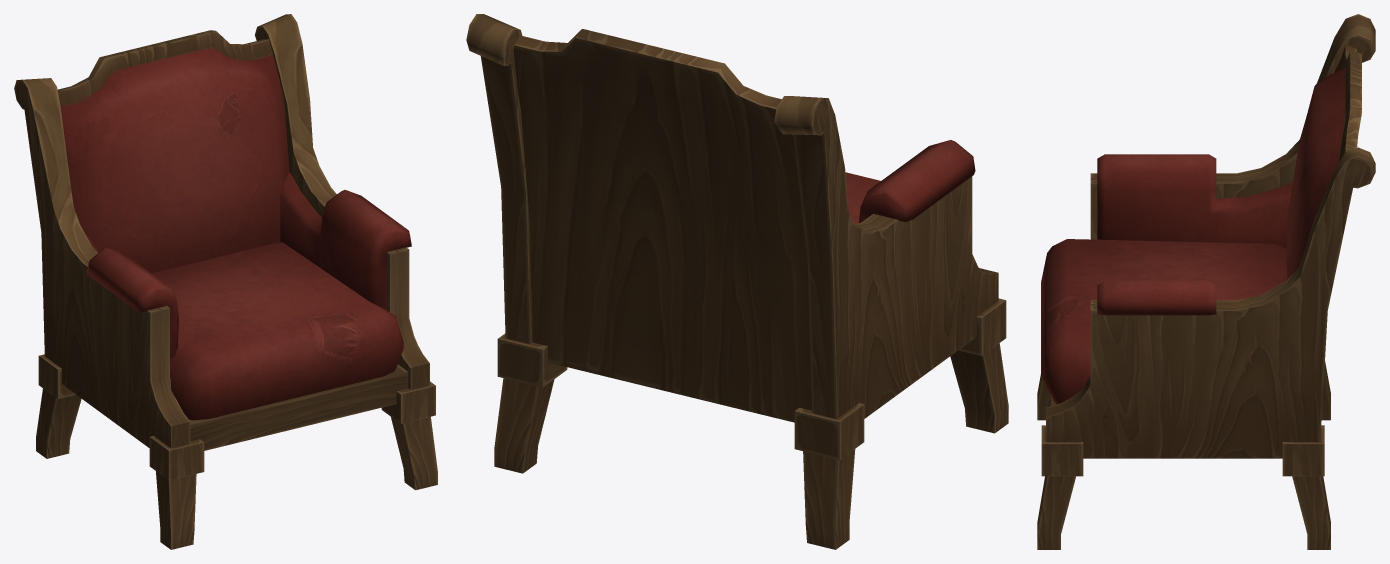
File: Armchair.FBX
The picture shows the model from 3 angles, left to right: view 1: azimuth 30°, elevation 25°; view 2: azimuth 150°, elevation 25°; view 3: azimuth 270°, elevation 25°; orthographic projection. The views are drawn at different scales.
Visible parts, largest first — view 1: Armchair; view 2: Armchair; view 3: Armchair.
Boxes of the visible parts, x1,y1,x2,y2 form: Armchair: (14,14,437,549); Armchair: (466,14,1008,549); Armchair: (1037,14,1375,549).
Bounding box in the file's own units: 841 × 1076 × 826.
